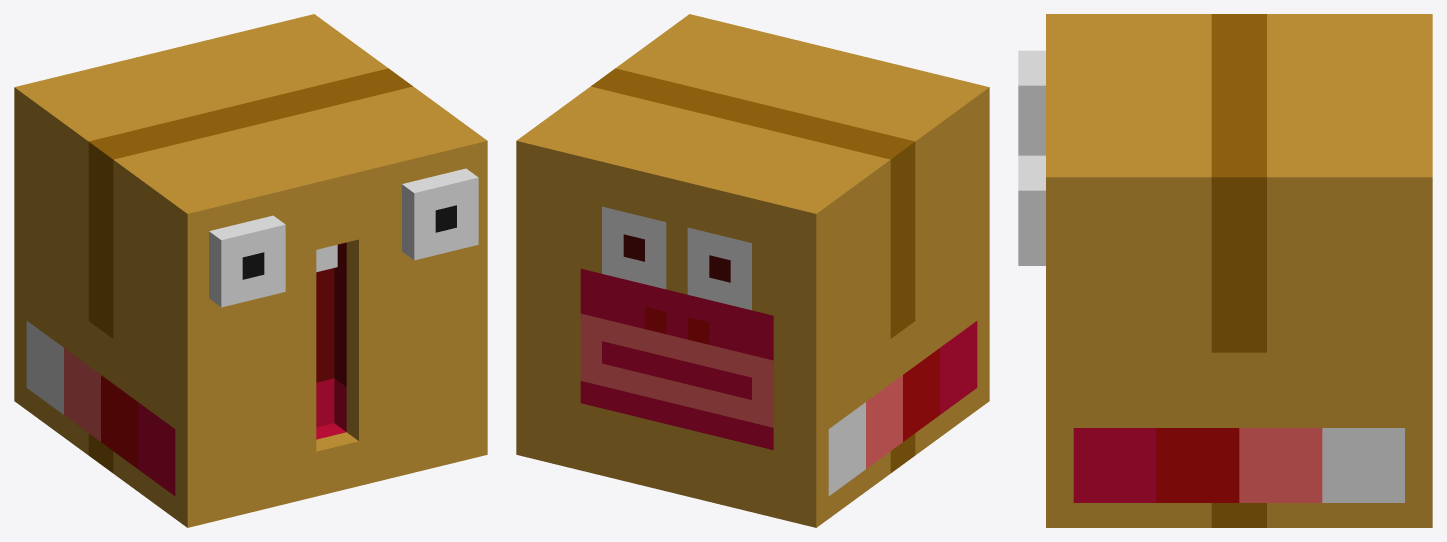
File: bomb4.obj
3 views of the same model, side by side, from view 1: azimuth 30°, elevation 25°; view 2: azimuth 150°, elevation 25°; view 3: azimuth 270°, elevation 25° (orthographic). The views are drawn at different scales.
Size of the model in its own units: 14 by 14 by 15.
Materials: 1 (1 with a texture image).
